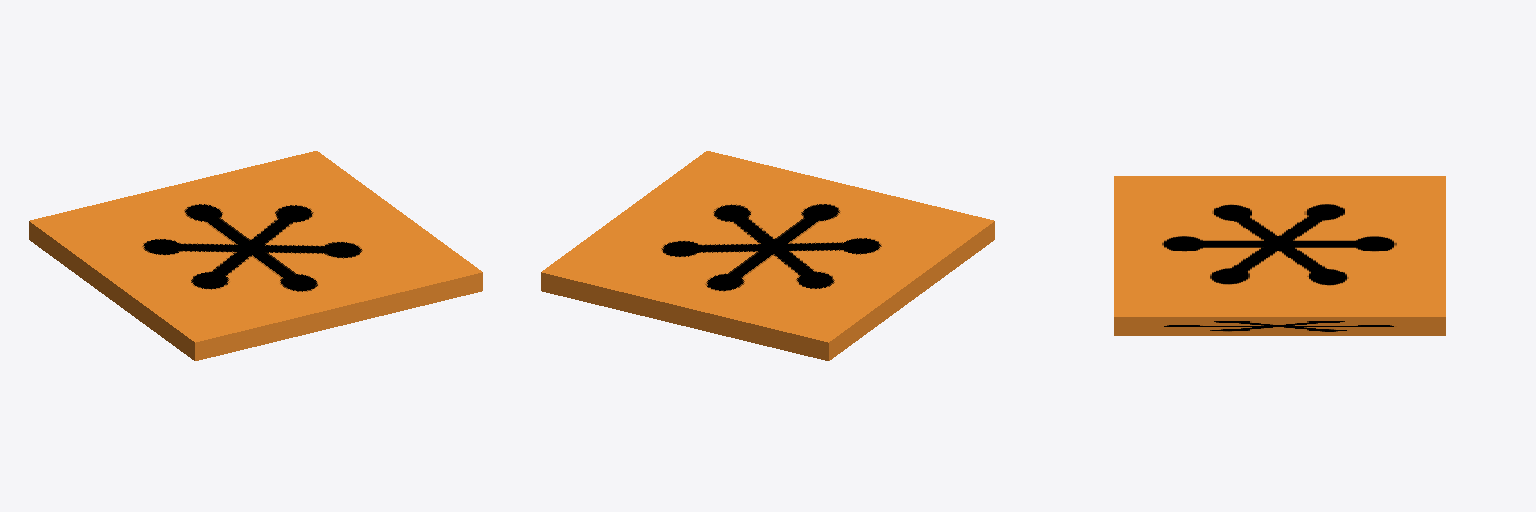
The picture shows the model from 3 angles: view 1: azimuth 30°, elevation 25°; view 2: azimuth 150°, elevation 25°; view 3: azimuth 270°, elevation 25°; orthographic projection.
Parts seen in each view (by area): view 1: Cube.001_Cube.003; view 2: Cube.001_Cube.003; view 3: Cube.001_Cube.003.
Boxes of the visible parts, <box> form: Cube.001_Cube.003: <box>29,151,482,360</box>; Cube.001_Cube.003: <box>541,151,994,360</box>; Cube.001_Cube.003: <box>1114,176,1445,335</box>.
Size of the model in its own units: 0.0905 by 0.0057 by 0.0905.
Materials: 1 (1 with a texture image).